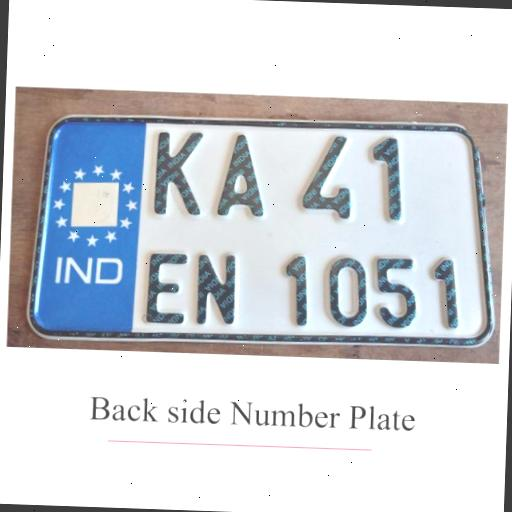number plate: (32, 114, 503, 353)
